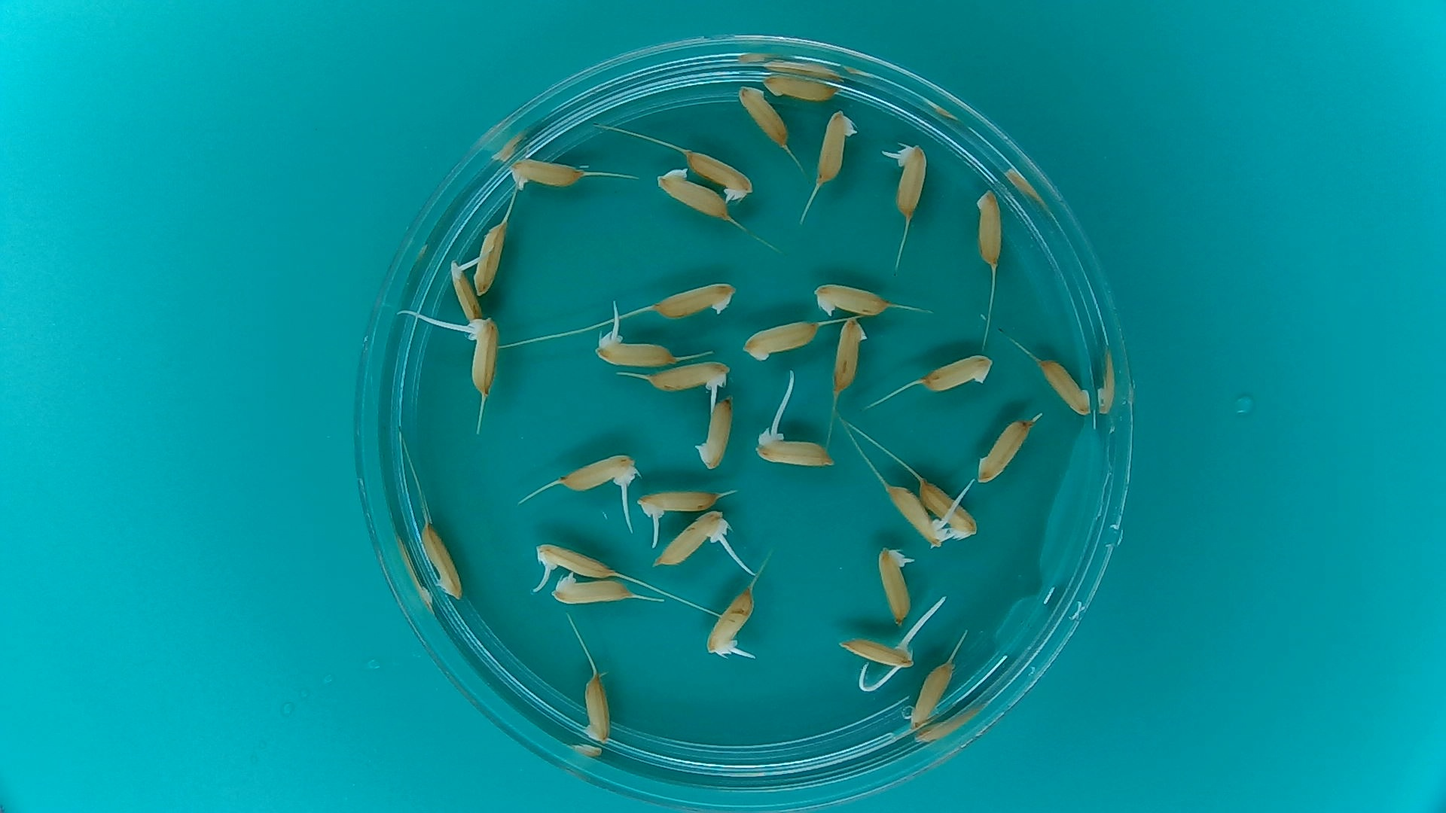no: (653, 166, 731, 221), (976, 413, 1033, 486), (419, 520, 466, 601), (740, 318, 823, 362), (736, 84, 791, 150), (1034, 354, 1092, 416), (905, 660, 956, 730), (692, 392, 735, 472), (830, 314, 871, 397), (812, 279, 894, 319), (917, 350, 995, 392), (974, 187, 1008, 276), (472, 216, 508, 298), (579, 669, 613, 744), (763, 69, 836, 102)
yes: (651, 510, 735, 569), (883, 482, 949, 547), (705, 582, 758, 662), (683, 148, 755, 205), (591, 324, 680, 370), (647, 277, 739, 321), (754, 424, 838, 470), (919, 478, 981, 540), (555, 450, 641, 494), (643, 358, 732, 400), (883, 138, 929, 218), (814, 107, 861, 185), (875, 543, 919, 626), (530, 540, 615, 581), (633, 486, 721, 525), (460, 314, 501, 397), (505, 156, 585, 193), (836, 632, 917, 668), (549, 571, 631, 605), (447, 255, 484, 324)
